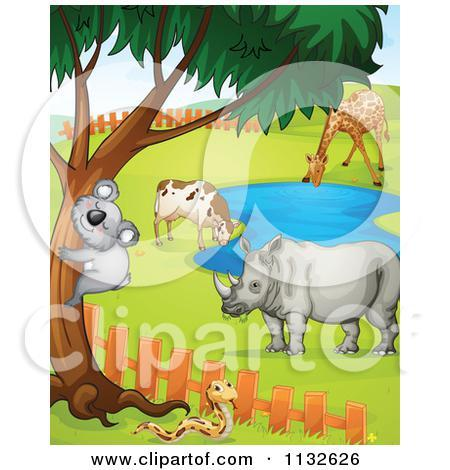cow: (148, 177, 237, 255)
